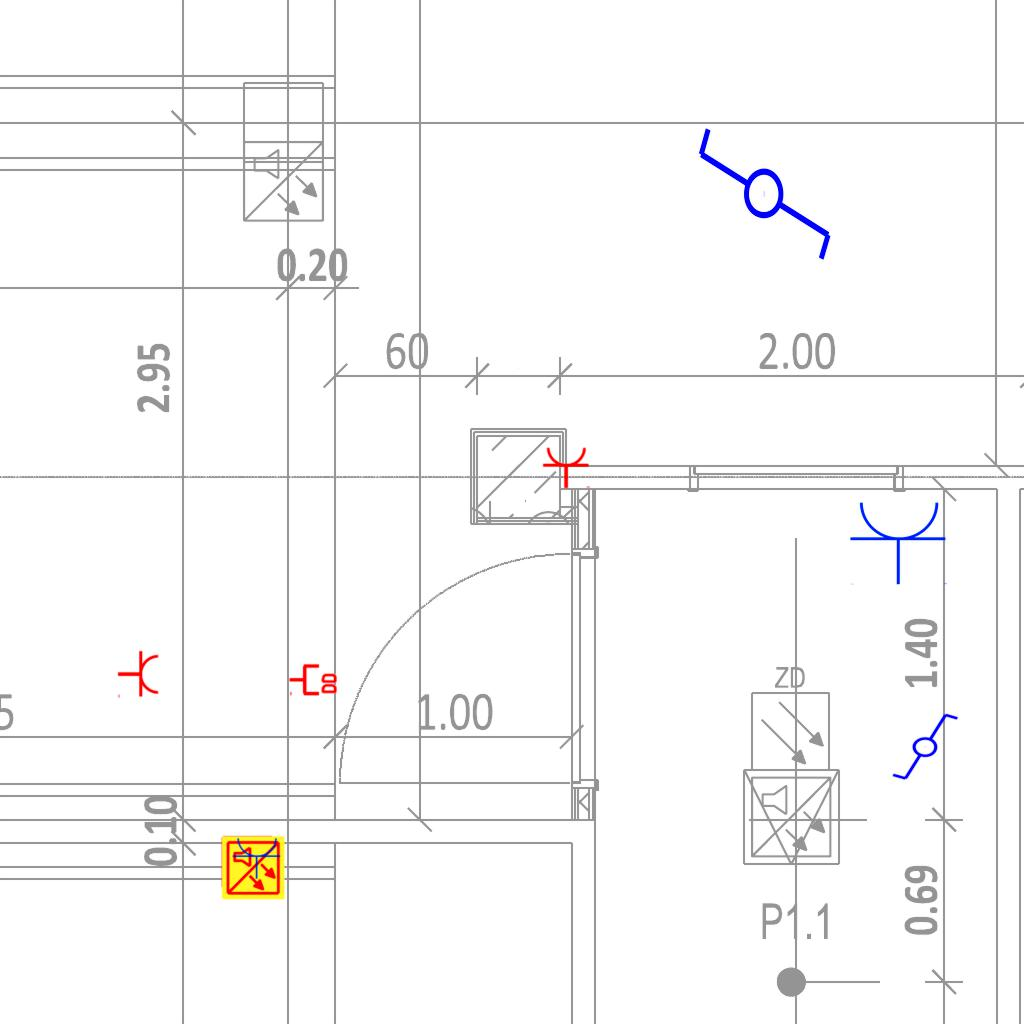Datenanschluss_zweifach: (288, 662, 339, 696)
OKW_Multisensormelder_(Kombination_optischer_Rauch-Kahlenmonoxid_Waerme-Melder): (220, 835, 286, 901)
Schukosteckdose_einfach: (849, 498, 949, 585), (542, 446, 592, 489), (117, 650, 160, 700), (232, 836, 282, 879)
Wechselschalter: (694, 107, 838, 264), (882, 710, 960, 782)
